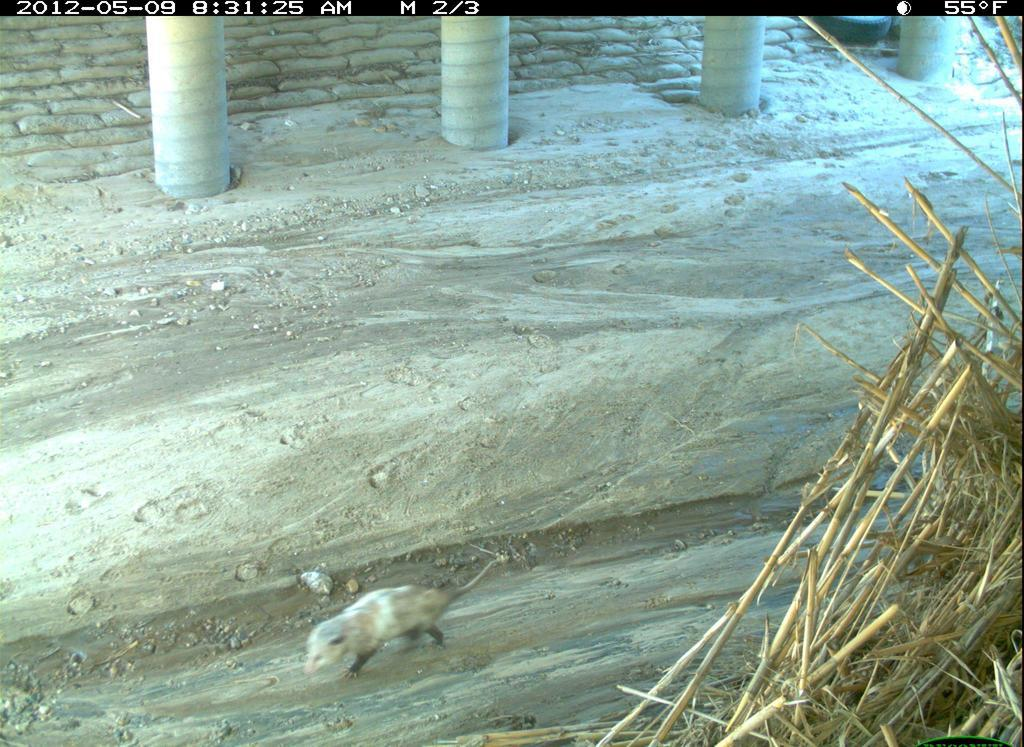opossum: (297, 551, 509, 690)
